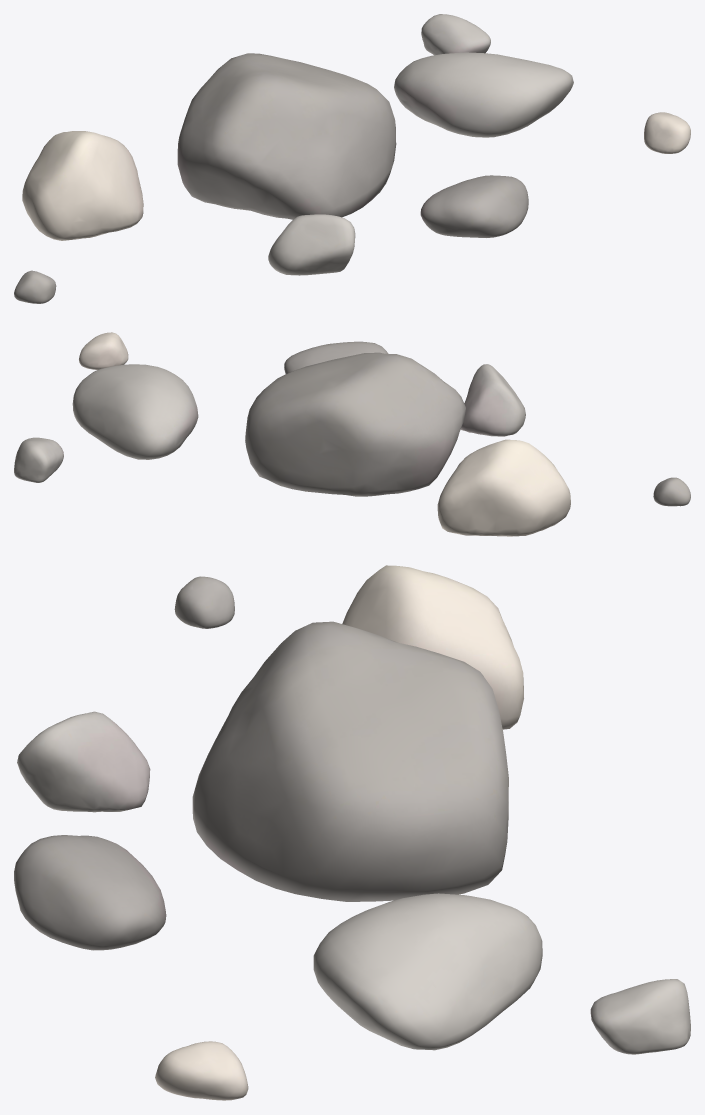
File: rocks.glb
3 views of the same model, one above another, from view 1: azimuth 30°, elevation 25°; view 2: azimuth 150°, elevation 25°; view 3: azimuth 270°, elevation 25° (orthographic). The views are drawn at different scales.
Visible parts, largest first — view 1: small-rock-set_body; view 2: small-rock-set_body; view 3: small-rock-set_body.
Part boxes in pixels (bbox=[...]): small-rock-set_body: bbox=[14, 14, 690, 303]; small-rock-set_body: bbox=[14, 332, 690, 536]; small-rock-set_body: bbox=[14, 565, 690, 1100].
Size of the model in its own units: 0.9536 by 0.17 by 0.5427.
1 material, 1 textured.
